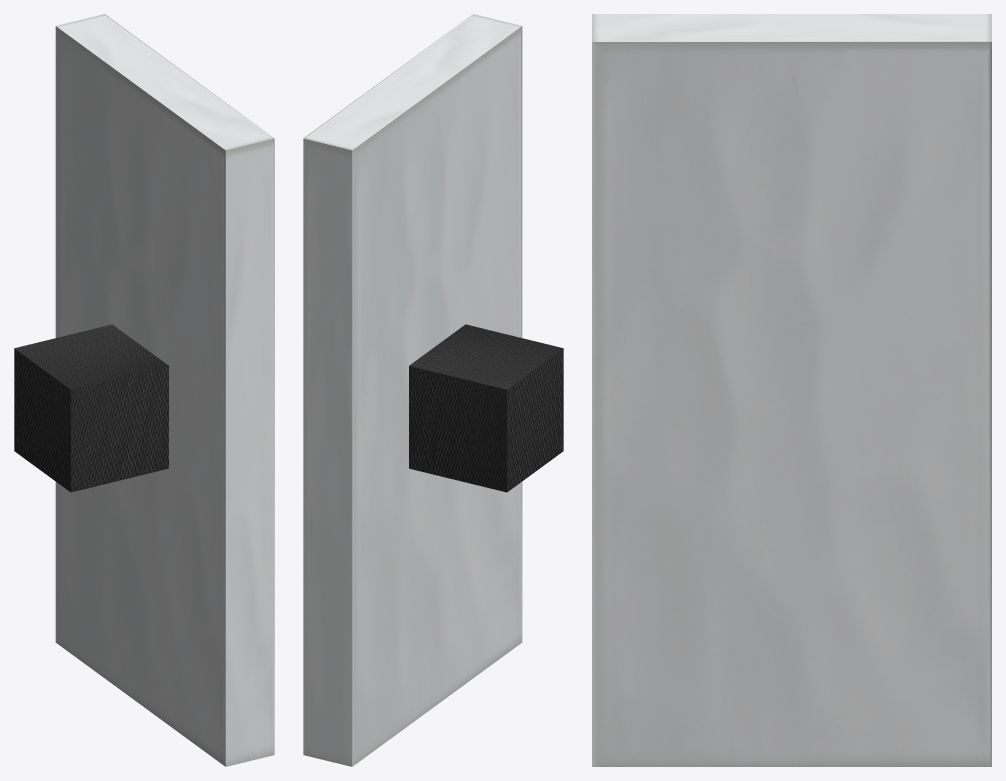
Rendered from WallLamp004.FBX.
3 renders of one model, left to right at view 1: azimuth 30°, elevation 25°; view 2: azimuth 150°, elevation 25°; view 3: azimuth 270°, elevation 25°, orthographic. The views are drawn at different scales.
Parts seen in each view (by area): view 1: WallLamp004; view 2: WallLamp004; view 3: WallLamp004.
Part boxes in pixels (<box>): WallLamp004: <box>14,14,274,766</box>; WallLamp004: <box>303,14,563,766</box>; WallLamp004: <box>592,14,991,766</box>.
Bounding box in the file's own units: 15 × 60 × 30.
